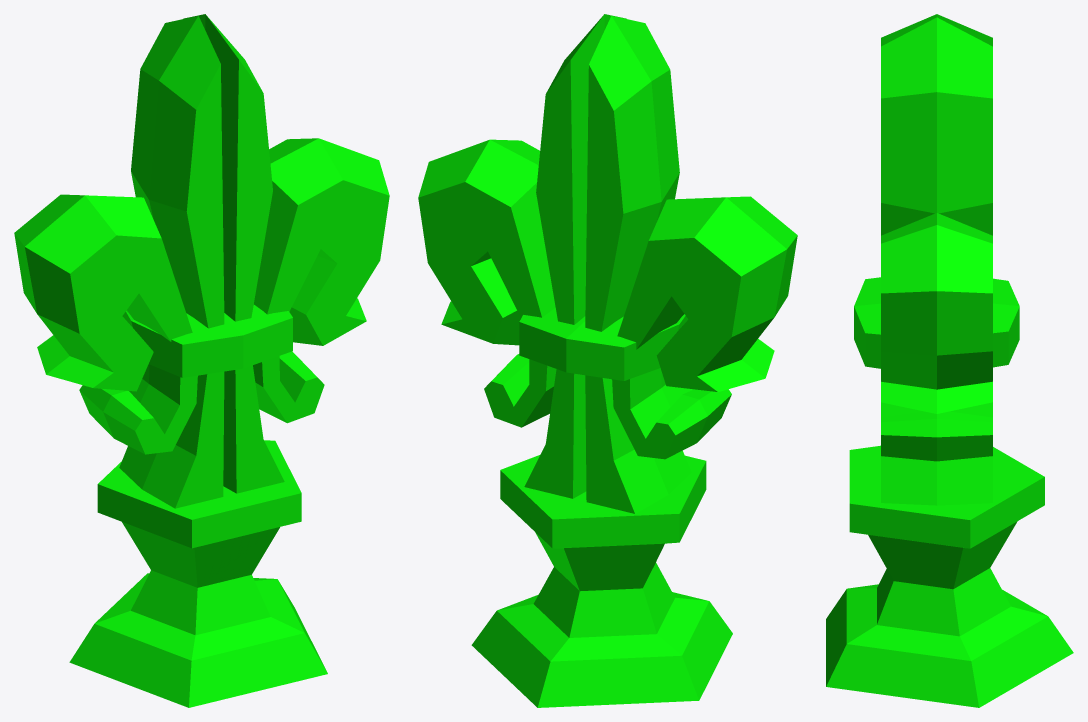
The model's file is SM_Battlemap_Figurine_Lily_Fantasy.fbx.
The picture shows the model from 3 angles, left to right: view 1: azimuth 30°, elevation 25°; view 2: azimuth 150°, elevation 25°; view 3: azimuth 270°, elevation 25°; orthographic projection.
Visible parts, largest first — view 1: battlemap-figurine-lily-fantasy; view 2: battlemap-figurine-lily-fantasy; view 3: battlemap-figurine-lily-fantasy.
Boxes of the visible parts, box(x1,y1,x2,y2) form: battlemap-figurine-lily-fantasy: box(14, 14, 389, 707); battlemap-figurine-lily-fantasy: box(418, 14, 797, 707); battlemap-figurine-lily-fantasy: box(826, 14, 1073, 707).
Bounding box in the file's own units: 0.2404 × 0.4121 × 0.1454.
